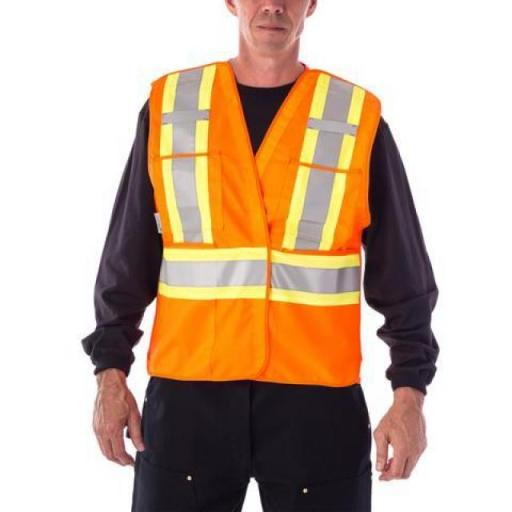vest: (138, 58, 394, 397)
